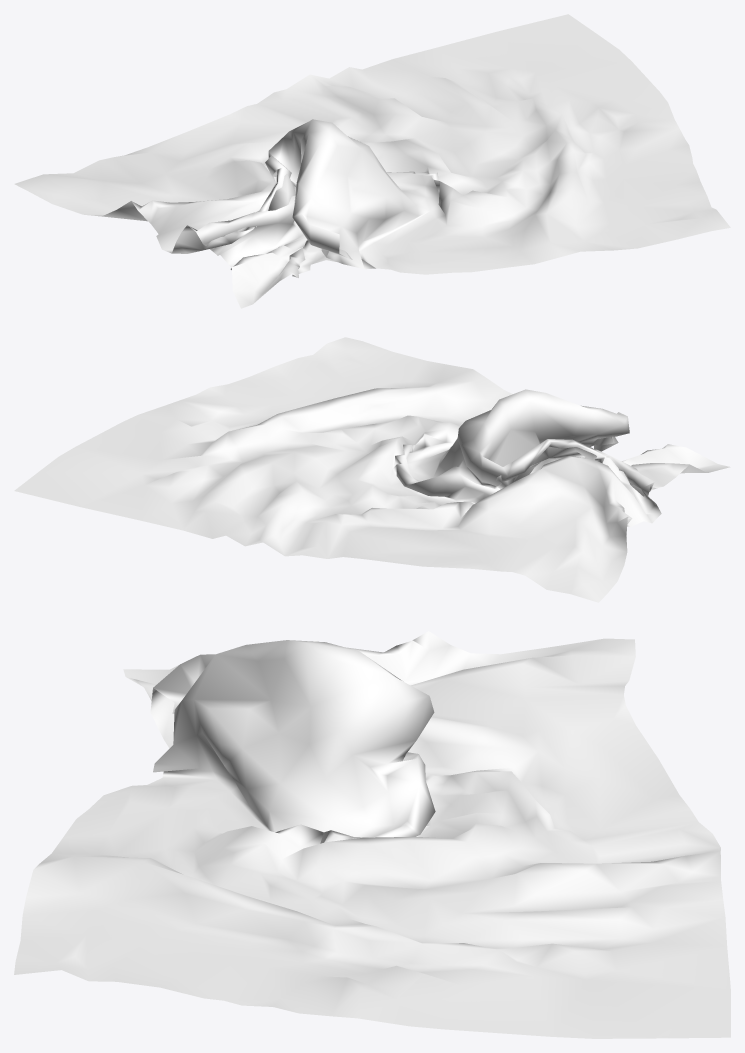
Rendered from Rug2.fbx.
3 renders of one model, top to bottom at view 1: azimuth 30°, elevation 25°; view 2: azimuth 150°, elevation 25°; view 3: azimuth 270°, elevation 25°, orthographic. The views are drawn at different scales.
Parts seen in each view (by area): view 1: Rug2; view 2: Rug2; view 3: Rug2.
Boxes of the visible parts, bbox=[...] form: Rug2: bbox=[14, 14, 730, 308]; Rug2: bbox=[14, 337, 730, 602]; Rug2: bbox=[14, 631, 730, 1038].
Bounding box in the file's own units: 187 × 30.05 × 141.
1 material, 1 textured.
